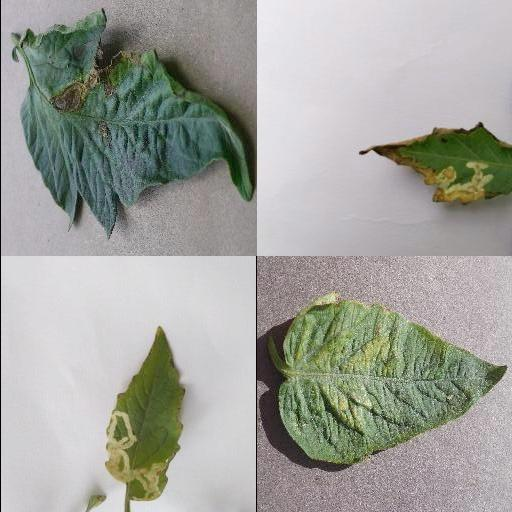Early Blight: (19, 10, 253, 240)
Leaf Miner: (101, 328, 187, 502), (372, 121, 512, 205)
Spider Mites: (275, 295, 507, 466)
